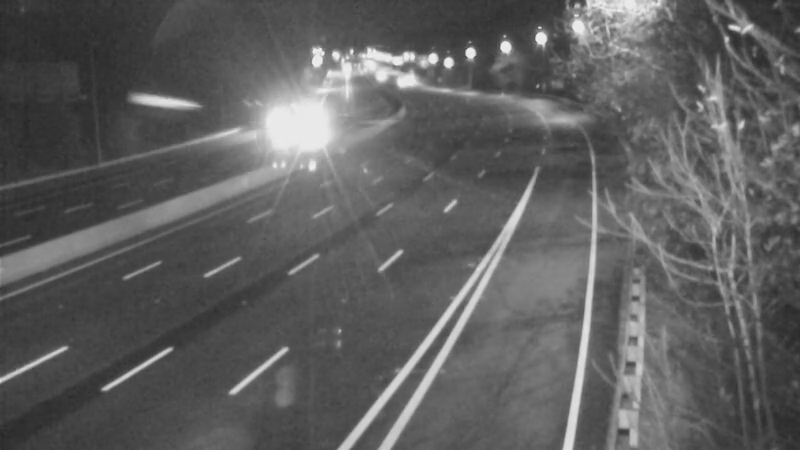vehicle: (378, 54, 428, 104), (284, 110, 334, 160), (254, 99, 304, 149)
